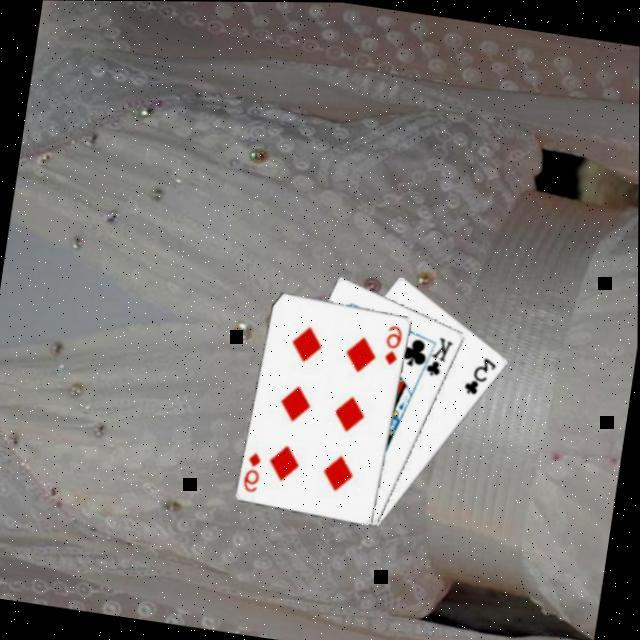3C: (459, 349, 499, 398)
6D: (379, 320, 405, 367), (238, 447, 264, 494)
KC: (415, 329, 455, 379)
